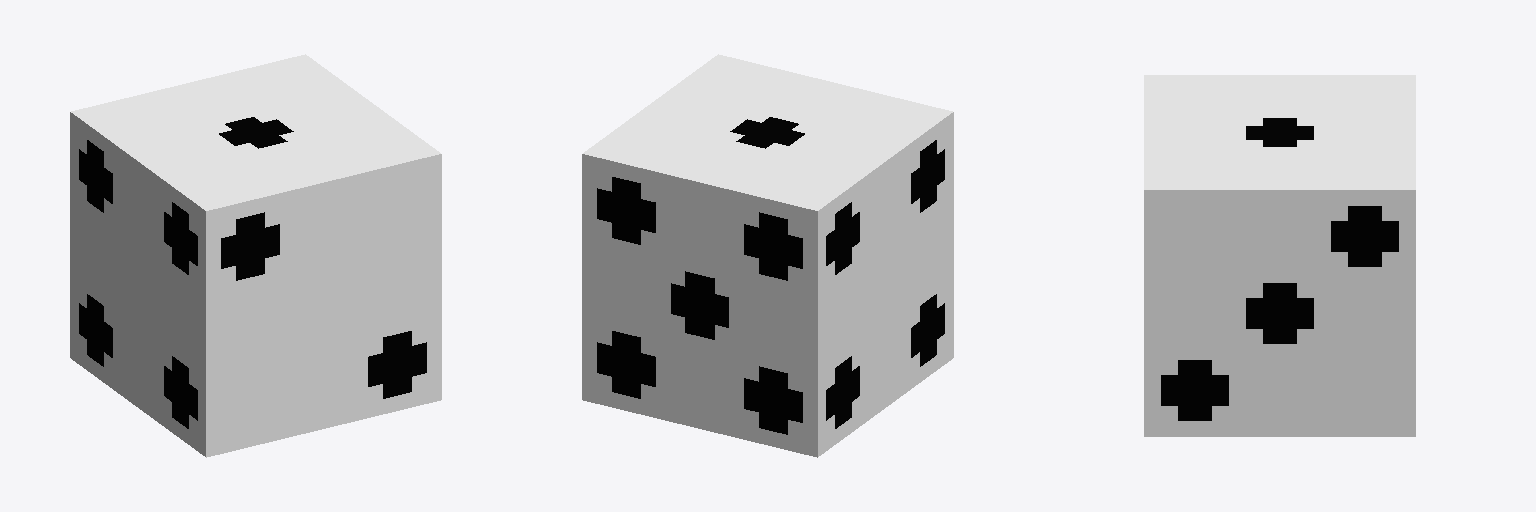
The picture shows the model from 3 angles: view 1: azimuth 30°, elevation 25°; view 2: azimuth 150°, elevation 25°; view 3: azimuth 270°, elevation 25°; orthographic projection.
Visible parts, largest first — view 1: cuboid; view 2: cuboid; view 3: cuboid.
Part boxes in pixels (x1,y1,x2,y2): cuboid: (70,54,441,457); cuboid: (582,54,953,457); cuboid: (1144,75,1415,436).
Bounding box in the file's own units: 1 × 1 × 1.
1 materials, 1 textured.